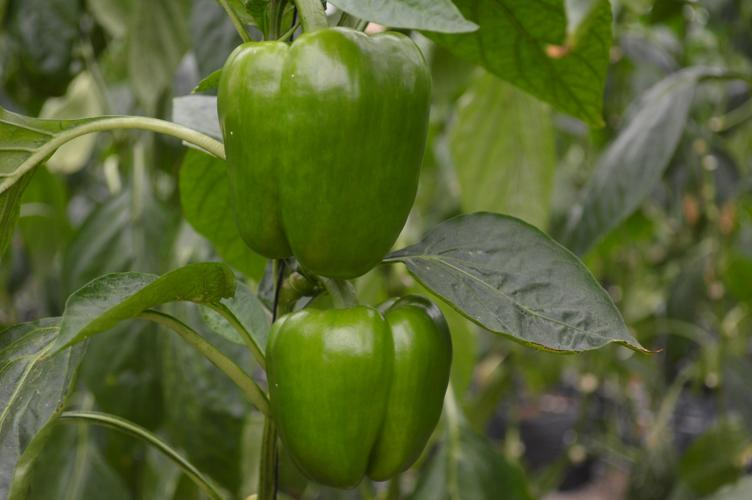BellPepper: (216, 28, 430, 273), (257, 295, 457, 486)
